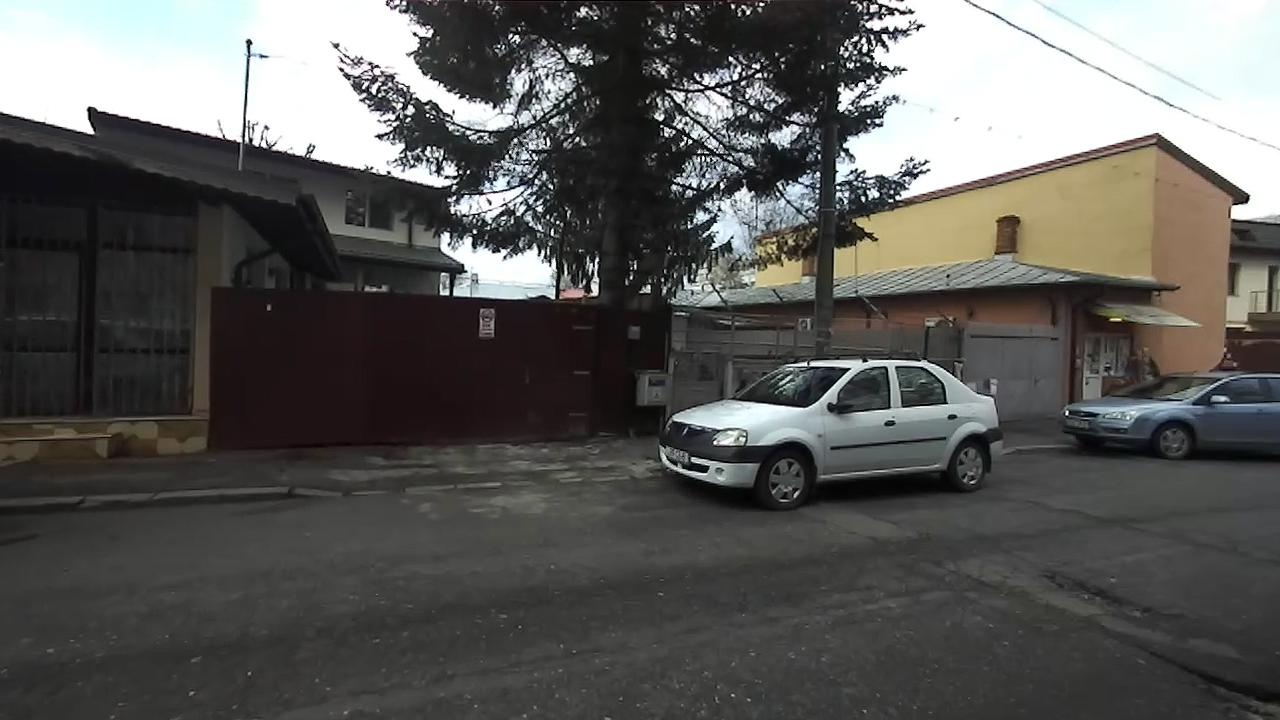pothole: (1124, 639, 1280, 719), (1034, 560, 1173, 633)
